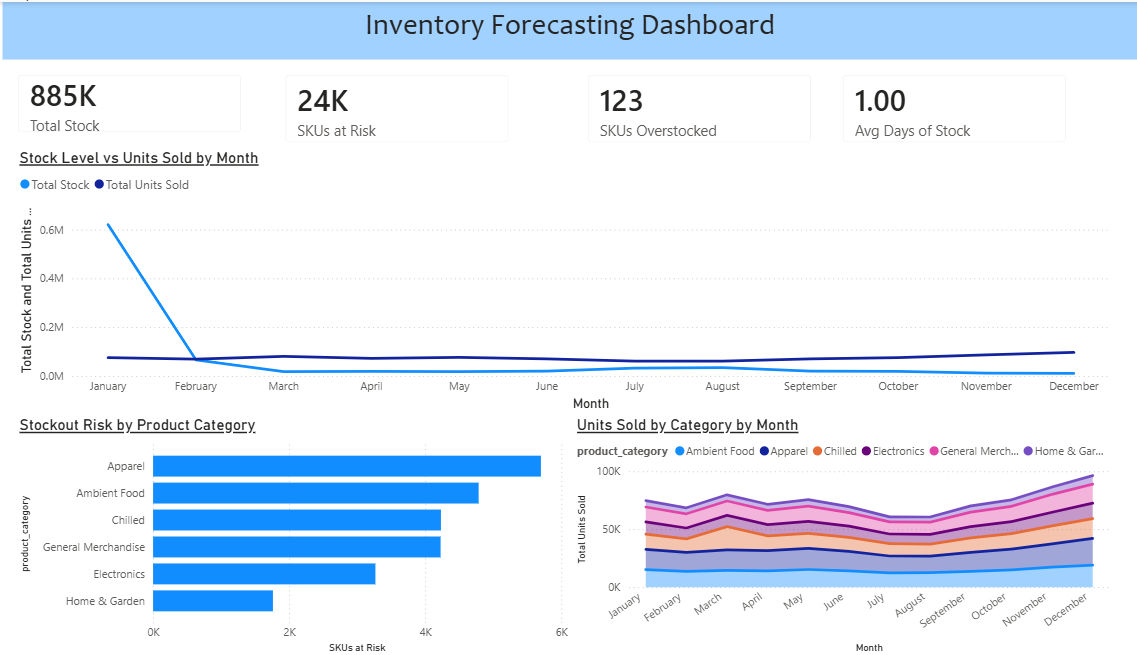

What the dashboard file says about the page in this screenshot:
{"tool":"powerbi","page":{"name":"Inventory Forecasting","canvas":[1280,720],"ordinal":1},"visuals":[{"type":"cardVisual","fields":{"Data":["inventory.Total Stock"]},"box":[13.7,63.1,279.9,97.4],"z":0},{"type":"cardVisual","fields":{"Data":["inventory.SKUs at Risk"]},"box":[307.4,63.1,279.9,108.4],"z":1},{"type":"cardVisual","fields":{"Data":["inventory.SKUs Overstocked"]},"box":[639.5,63.1,279.9,108.4],"z":2},{"type":"cardVisual","fields":{"Data":["inventory.Avg Days of Stock"]},"box":[919.4,63.1,279.9,108.4],"z":3},{"type":"textbox","box":[13.7,0,1246,63.1],"z":4},{"type":"lineChart","title":"Stock Level vs Units Sold by Month","fields":{"Category":["inventory.date.Variation.Date Hierarchy.Month"],"Y":["inventory.Total Stock","inventory.Total Units Sold"]},"box":[27.4,160.5,1206.2,293.7],"z":5},{"type":"barChart","title":"Stockout Risk by Product Category","fields":{"Category":["inventory.product_category"],"Y":["inventory.SKUs at Risk"]},"box":[27.4,454.2,612,266.2],"z":6},{"type":"stackedAreaChart","title":"Units Sold by Category by Month","fields":{"Category":["inventory.date.Variation.Date Hierarchy.Month"],"Y":["inventory.Total Units Sold"],"Series":["inventory.product_category"]},"box":[639.5,454.2,594.2,266.2],"z":7}]}

Visuals, with their boxes in screenshot pixels (x1, y1, x2, y2), scaled from the page's 1280x720 canvas onto the 1137x655 screenshot:
cardVisual - inventory.Total Stock: box=[12, 57, 261, 146]
cardVisual - inventory.SKUs at Risk: box=[273, 57, 522, 156]
cardVisual - inventory.SKUs Overstocked: box=[568, 57, 817, 156]
cardVisual - inventory.Avg Days of Stock: box=[817, 57, 1065, 156]
textbox: box=[12, 0, 1119, 57]
"Stock Level vs Units Sold by Month" lineChart: box=[24, 146, 1096, 413]
"Stockout Risk by Product Category" barChart: box=[24, 413, 568, 654]
"Units Sold by Category by Month" stackedAreaChart: box=[568, 413, 1096, 654]
